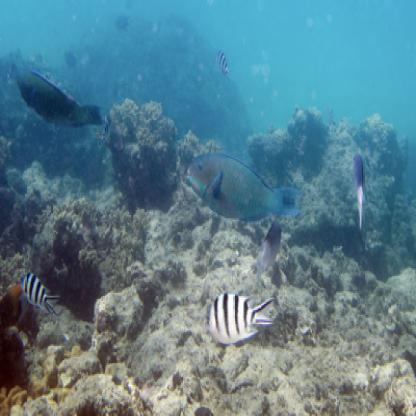damsel: (207, 283, 278, 352), (17, 258, 66, 328)
parrot: (182, 140, 303, 230), (15, 53, 108, 148)
